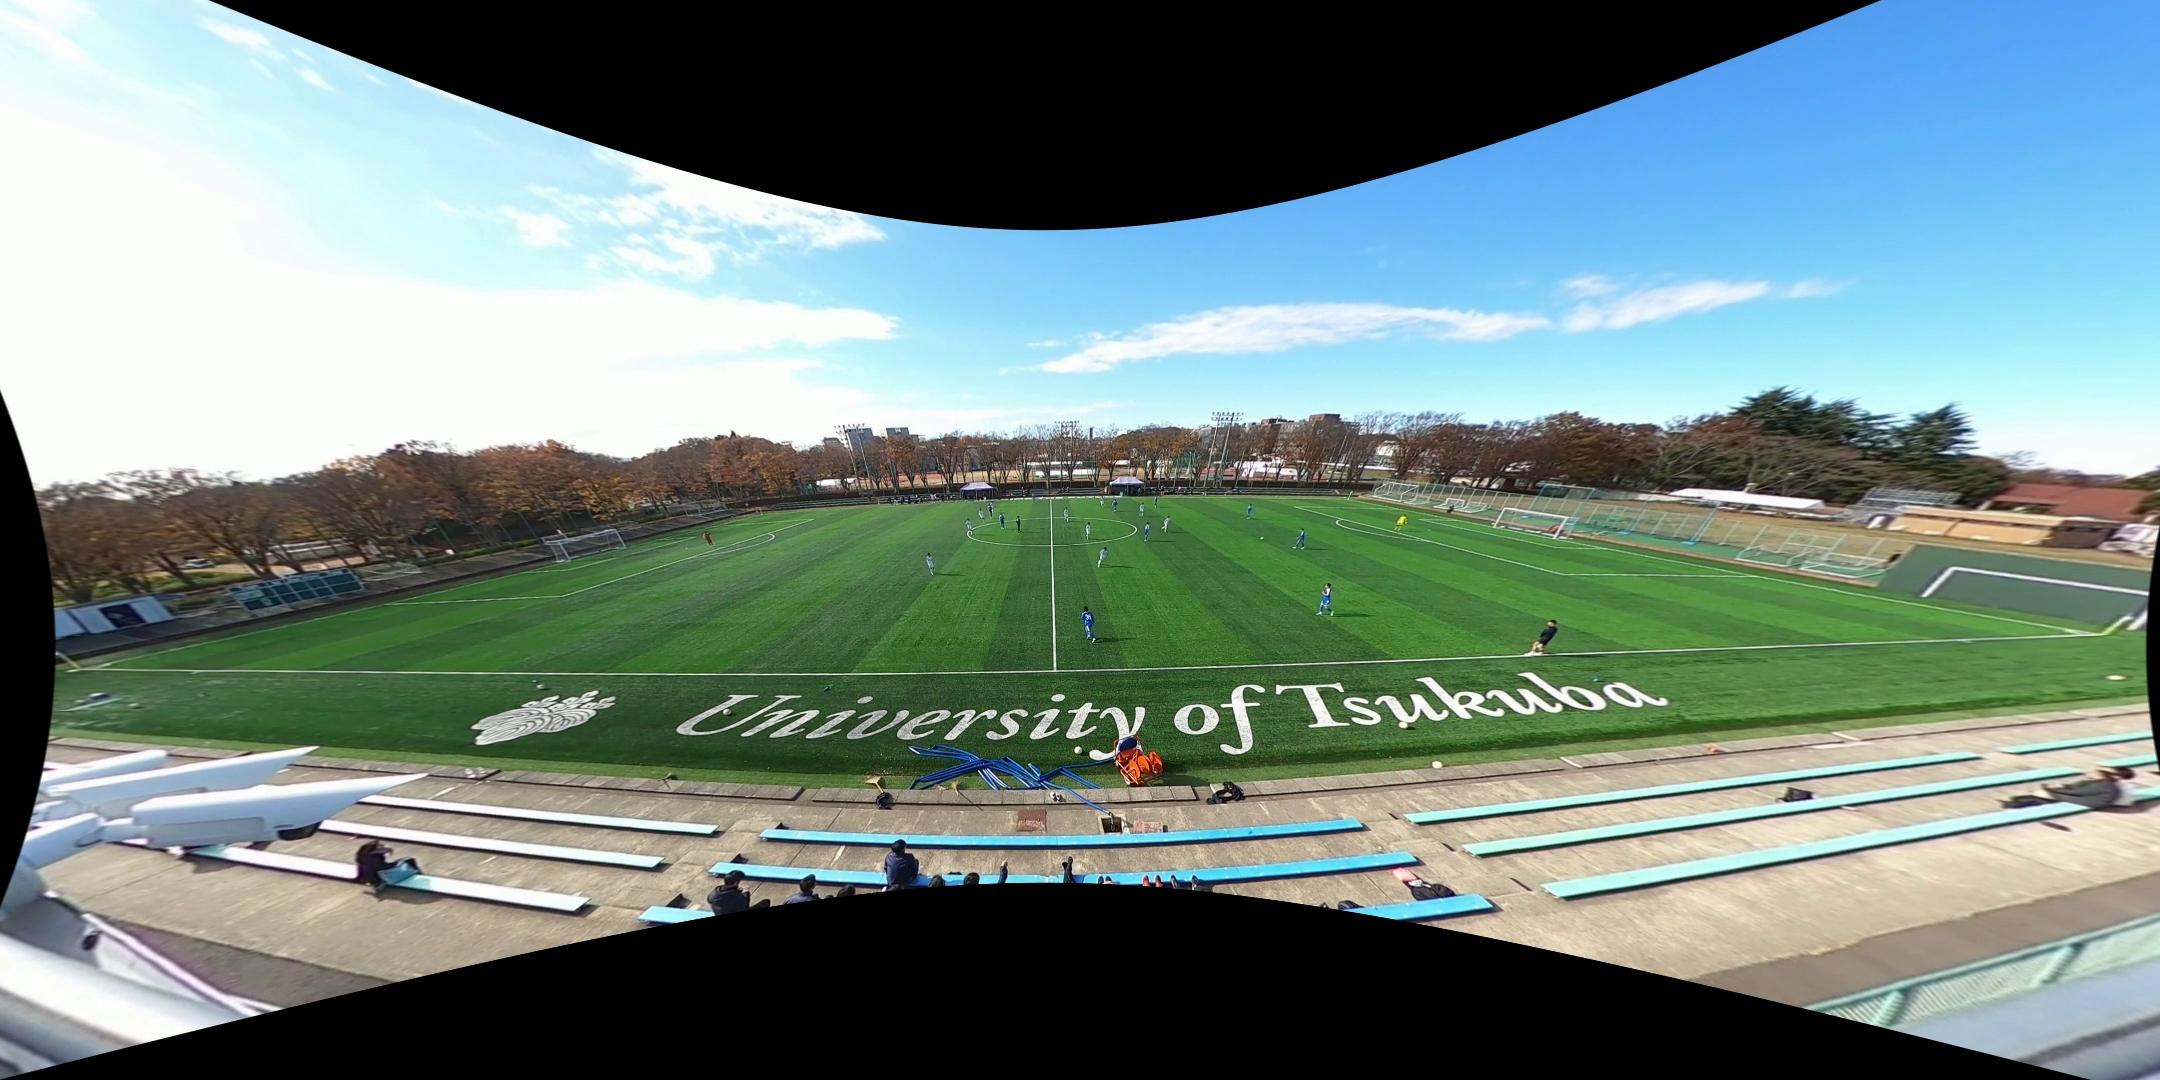person: (1521, 618, 1562, 656), (1078, 607, 1099, 645), (1317, 583, 1338, 616), (925, 553, 938, 574), (1292, 528, 1305, 549), (1097, 548, 1109, 570), (1395, 514, 1408, 531), (1161, 515, 1172, 533), (702, 530, 713, 547), (1143, 522, 1150, 542), (998, 513, 1006, 530), (966, 518, 974, 535), (1110, 499, 1119, 514), (976, 510, 986, 523), (1085, 522, 1092, 540), (1015, 516, 1022, 534), (1245, 504, 1253, 519), (986, 502, 994, 516), (1062, 508, 1069, 522), (1138, 503, 1145, 516), (1100, 495, 1105, 509), (1031, 494, 1036, 504), (1154, 496, 1158, 508), (989, 506, 992, 517)
sports ball: (1259, 535, 1264, 540)
